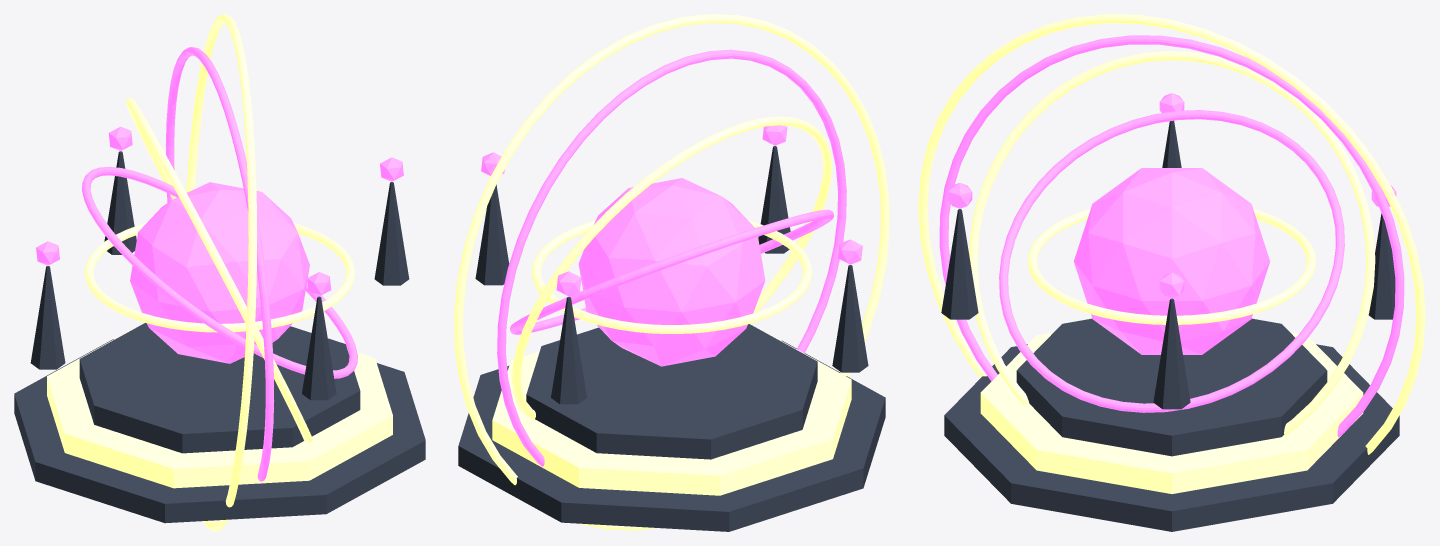
The model's file is gpu-blender-v9.glb.
The picture shows the model from 3 angles, left to right: view 1: azimuth 30°, elevation 25°; view 2: azimuth 150°, elevation 25°; view 3: azimuth 270°, elevation 25°; orthographic projection. The views are drawn at different scales.
Visible parts, largest first — view 1: Cylinder.002, SovereignCore_zoth-civilization, Cylinder, Cylinder.001, Torus.004, Torus.003, Torus.001, Torus, Torus.002, Cone.003, Cone, Cone.002 (+1 smaller); view 2: Cylinder.002, SovereignCore_zoth-civilization, Cylinder, Cylinder.001, Torus.004, Torus.003, Torus.002, Torus, Torus.001, Cone.001, Cone.002, Cone (+1 smaller); view 3: SovereignCore_zoth-civilization, Cylinder.002, Cylinder, Cylinder.001, Torus.004, Torus.001, Torus.003, Torus.002, Torus, Cone, Cone.003, Cone.001 (+1 smaller).
Boxes of the visible parts, <box> form: Cylinder.002: <box>79,323,360,453</box>; SovereignCore_zoth-civilization: <box>130,182,309,363</box>; Cylinder: <box>14,339,425,523</box>; Cylinder.001: <box>47,330,392,488</box>; Torus.004: <box>186,14,257,531</box>; Torus.003: <box>165,47,274,483</box>; Torus.001: <box>82,166,357,378</box>; Torus: <box>85,223,354,332</box>; Torus.002: <box>126,98,312,442</box>; Cone.003: <box>302,296,336,400</box>; Cone: <box>374,182,409,285</box>; Cone.002: <box>30,266,65,369</box>; Cylinder.002: <box>526,324,817,459</box>; SovereignCore_zoth-civilization: <box>578,178,765,366</box>; Cylinder: <box>458,340,885,531</box>; Cylinder.001: <box>492,331,851,495</box>; Torus.004: <box>454,14,889,530</box>; Torus.003: <box>497,49,846,466</box>; Torus.002: <box>512,116,831,419</box>; Torus: <box>531,220,812,333</box>; Torus.001: <box>510,209,833,334</box>; Cone.001: <box>551,297,586,404</box>; Cone.002: <box>832,265,868,372</box>; Cone: <box>475,184,509,285</box>; SovereignCore_zoth-civilization: <box>1073,168,1270,354</box>; Cylinder.002: <box>1016,318,1327,456</box>; Cylinder: <box>944,344,1399,531</box>; Cylinder.001: <box>980,332,1363,493</box>; Torus.004: <box>918,14,1425,454</box>; Torus.001: <box>999,110,1344,412</box>; Torus.003: <box>939,35,1404,437</box>; Torus.002: <box>969,51,1375,435</box>; Torus: <box>1027,209,1316,324</box>; Cone: <box>1153,298,1190,409</box>; Cone.003: <box>941,209,978,319</box>; Cone.001: <box>1368,213,1395,319</box>.
Size of the model in its own units: 4.41 by 5.33 by 4.9.
